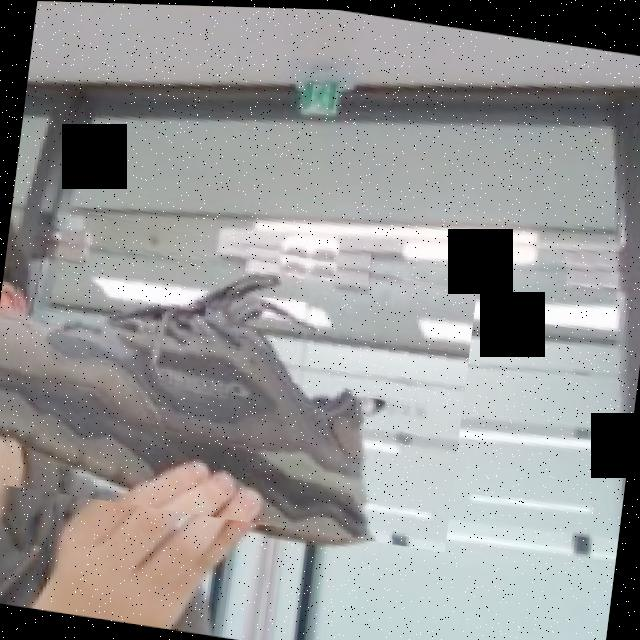shoe: (0, 199, 479, 550)
